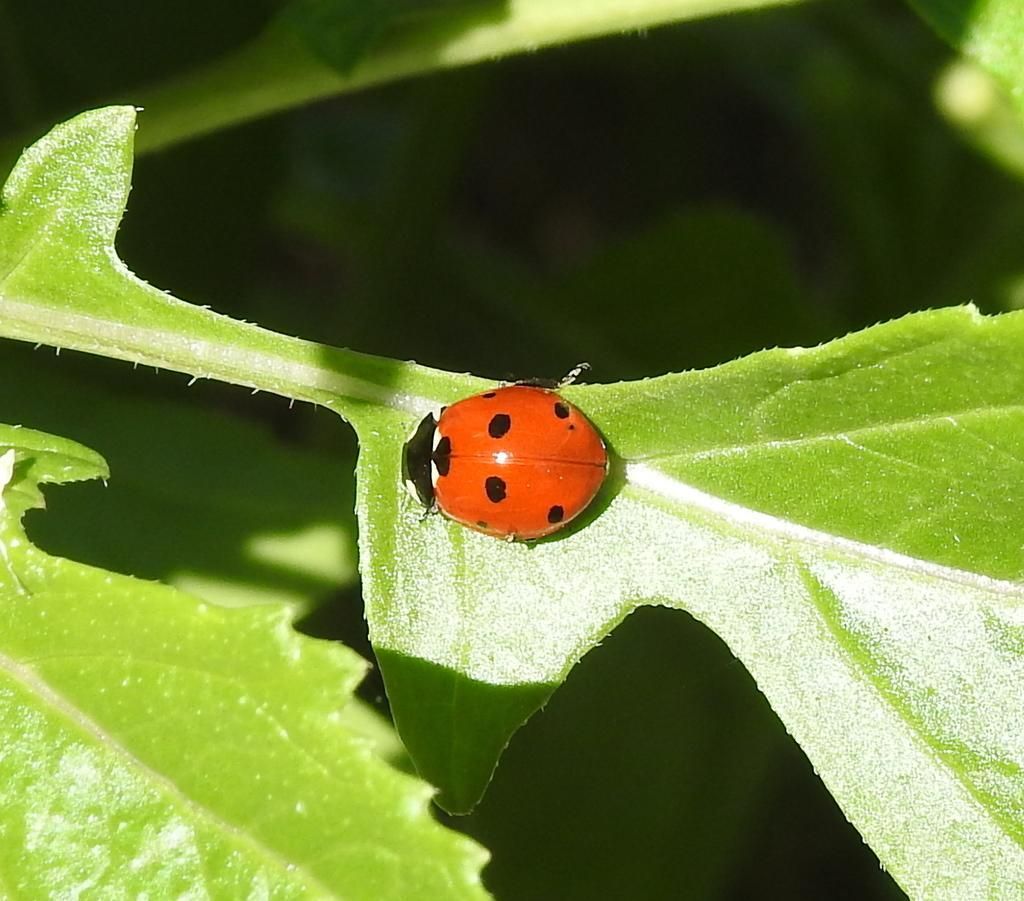ladybug: (399, 379, 616, 549)
